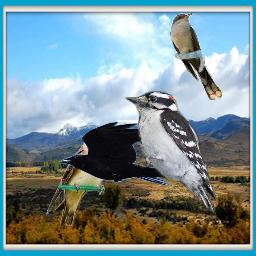Crow: (59, 122, 176, 187)
Cuckoo: (170, 13, 222, 100)
Swallow: (46, 129, 114, 226)
Woodpecker: (125, 91, 216, 215)
